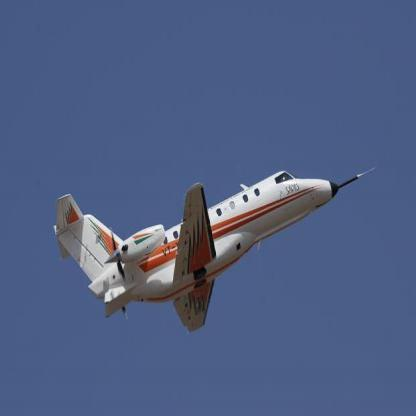CIV_Plane: (47, 156, 380, 335)
